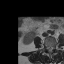CCS_normal: (49, 44, 51, 53)
LFS_normal: (53, 44, 55, 51)
LLS_normal: (51, 44, 53, 52)
RFS_normal: (45, 44, 47, 50)
RLS_normal: (47, 44, 49, 52)
